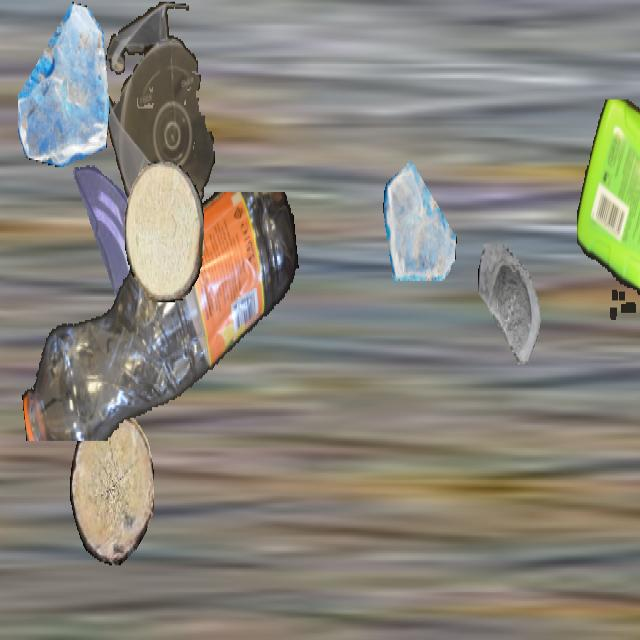glass: (18, 2, 110, 165), (69, 158, 153, 308), (477, 244, 553, 378), (383, 156, 457, 288)
plastic: (17, 192, 301, 441), (104, 2, 216, 236), (577, 100, 640, 334)
wood: (70, 412, 154, 566), (125, 162, 203, 300)
